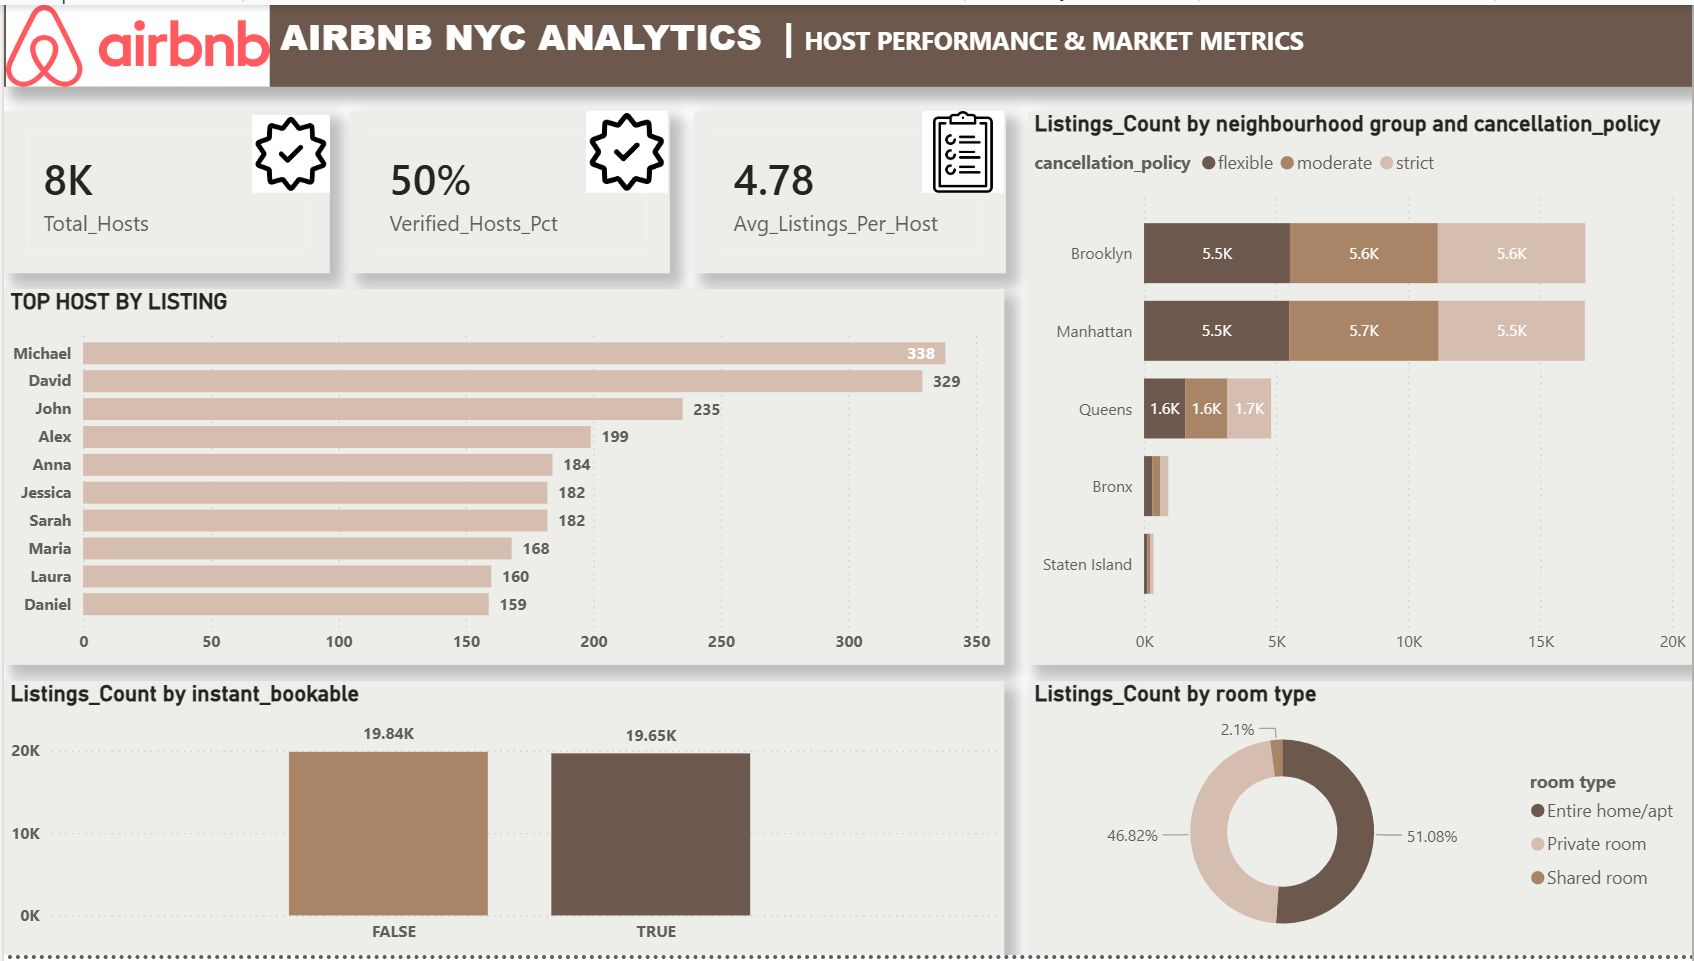

The dashboard page shown, as its layout file describes it:
{"tool":"powerbi","page":{"name":"HOST PERFORMANCE & MARKET METRICS","canvas":[1280,720],"ordinal":3},"visuals":[{"type":"textbox","box":[0,0,1281.5,62.2],"z":0},{"type":"cardVisual","fields":{"Data":["Airbnb1.Total_Hosts"]},"box":[0,80.4,247.2,122.8],"z":1000},{"type":"cardVisual","fields":{"Data":["Airbnb1.Verified_Hosts_Pct"]},"box":[262.4,80.4,242.7,122.8],"z":2000},{"type":"cardVisual","fields":{"Data":["Airbnb1.Avg_Listings_Per_Host"]},"box":[523.2,80.4,236.6,122.8],"z":3000},{"type":"barChart","title":"TOP HOST BY LISTING","fields":{"Category":["Airbnb1.host name"],"Y":["Airbnb1.Listings_Count"]},"box":[0,215.4,758.3,285.1],"z":4000},{"type":"barChart","fields":{"Category":["Airbnb1.neighbourhood group"],"Y":["Airbnb1.Listings_Count"],"Series":["Airbnb1.cancellation_policy"]},"box":[776.5,80.4,503.5,420.1],"z":5000},{"type":"clusteredColumnChart","fields":{"Category":["Airbnb1.instant_bookable"],"Y":["Airbnb1.Listings_Count"]},"box":[0,512.6,758.3,207.8],"z":6000},{"type":"donutChart","fields":{"Category":["Airbnb1.room type"],"Y":["Airbnb1.Listings_Count"]},"box":[776.5,512.6,503.5,209.3],"z":7000},{"type":"image","box":[439.8,80.4,65.2,62.2],"z":8000},{"type":"image","box":[188.1,81.9,59.1,62.2],"z":9000},{"type":"image","box":[0,0,203.2,62.2],"z":10000},{"type":"image","box":[696.1,80.4,62.2,62.2],"z":11000}]}

Visuals, with their boxes in screenshot pixels (x1, y1, x2, y2), scaled from the page's 1280x720 canvas onto the 1694x961 screenshot:
textbox: locate(0, 0, 1693, 83)
cardVisual - Airbnb1.Total_Hosts: locate(0, 107, 327, 271)
cardVisual - Airbnb1.Verified_Hosts_Pct: locate(347, 107, 668, 271)
cardVisual - Airbnb1.Avg_Listings_Per_Host: locate(692, 107, 1006, 271)
"TOP HOST BY LISTING" barChart: locate(0, 287, 1004, 668)
barChart - Airbnb1.neighbourhood group x Airbnb1.Listings_Count: locate(1028, 107, 1693, 668)
clusteredColumnChart - Airbnb1.instant_bookable x Airbnb1.Listings_Count: locate(0, 684, 1004, 960)
donutChart - Airbnb1.room type x Airbnb1.Listings_Count: locate(1028, 684, 1693, 960)
image: locate(582, 107, 668, 190)
image: locate(249, 109, 327, 192)
image: locate(0, 0, 269, 83)
image: locate(921, 107, 1004, 190)
